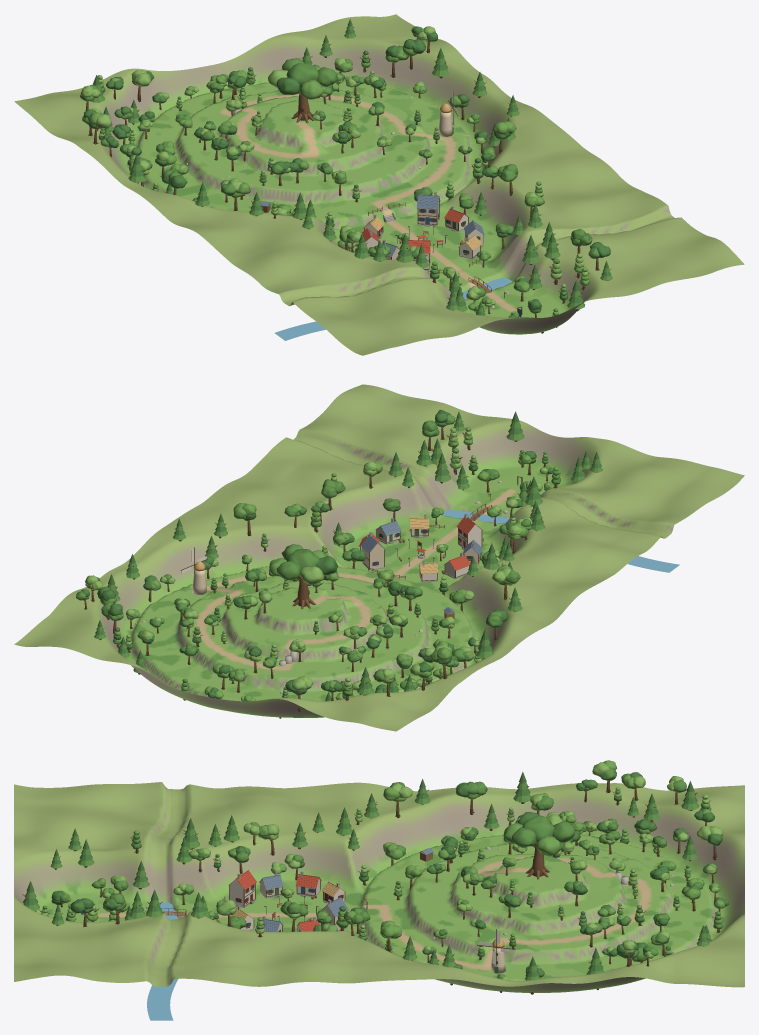
File: margin_village.glb
3 views of the same model, one above another, from view 1: azimuth 30°, elevation 25°; view 2: azimuth 150°, elevation 25°; view 3: azimuth 270°, elevation 25° (orthographic). The views are drawn at different scales.
Parts seen in each view (by area): view 1: terrain, scenery_soft, scenery, water; view 2: terrain, scenery_soft, scenery, water; view 3: terrain, scenery_soft, scenery, water.
Boxes of the visible parts, <box> form: terrain: <box>14,14,744,355</box>; scenery_soft: <box>80,19,612,317</box>; scenery: <box>85,26,611,333</box>; water: <box>274,278,512,340</box>; terrain: <box>14,384,744,731</box>; scenery_soft: <box>76,409,603,701</box>; scenery: <box>84,418,597,718</box>; water: <box>442,510,679,572</box>; terrain: <box>14,782,744,992</box>; scenery_soft: <box>23,760,728,980</box>; scenery: <box>22,781,720,994</box>; water: <box>147,902,178,1020</box>.
Size of the model in its own units: 124 by 30.24 by 190.
